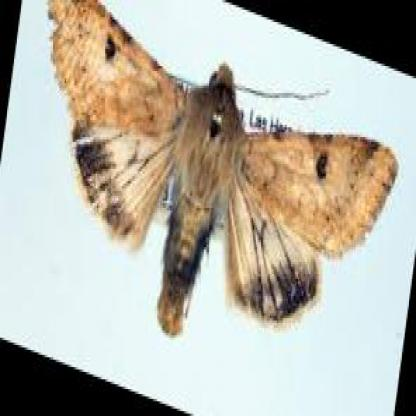helicoverpa: (46, 0, 398, 338)
